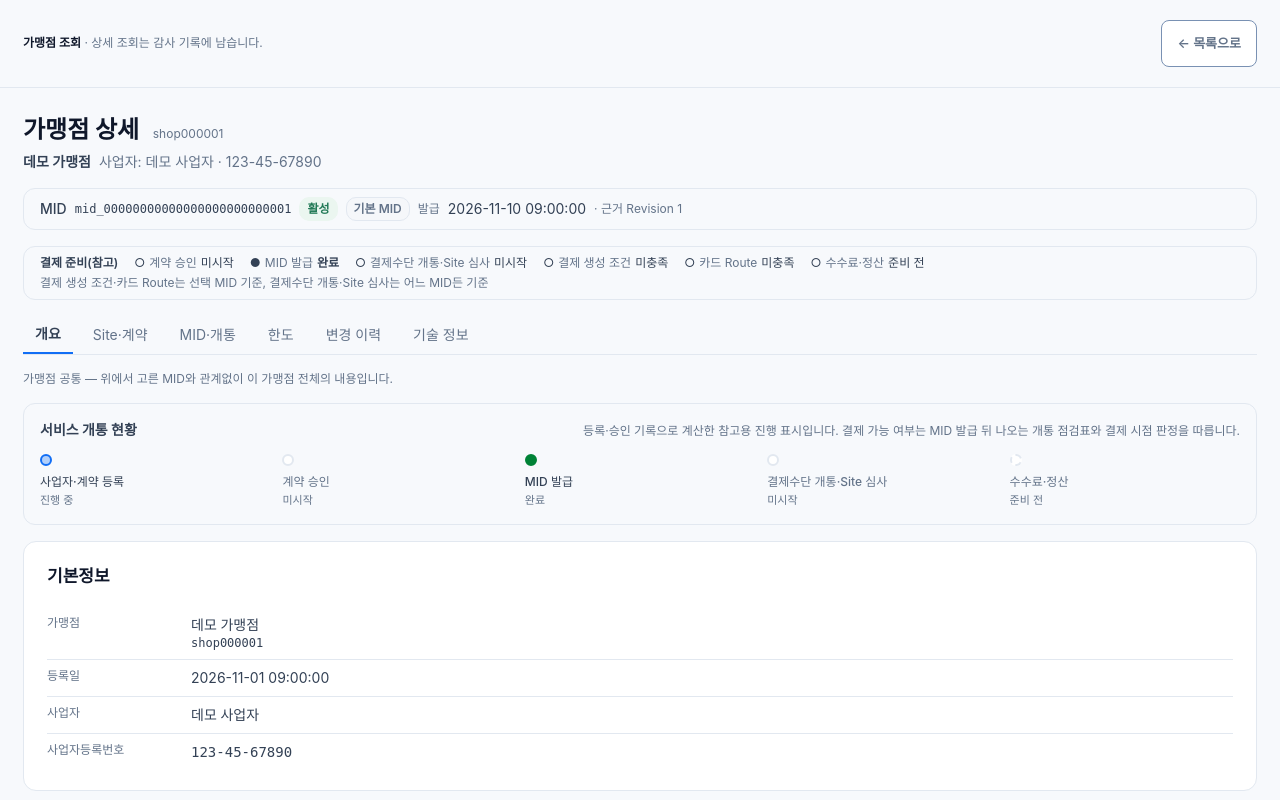
MerchantsScreen — list ↔ detail screen switch (MERCHANT-DETAIL-VIEW-001) › review NIT-1: leaving while the history loads and that request then fails — on return only the history is read again (no second detail read / audit)
The image size is (1280, 800).
Earlier steps of the test are not shown.
Step 1. Click the tab "변경 이력" → (353, 335), box [314, 316, 393, 354]
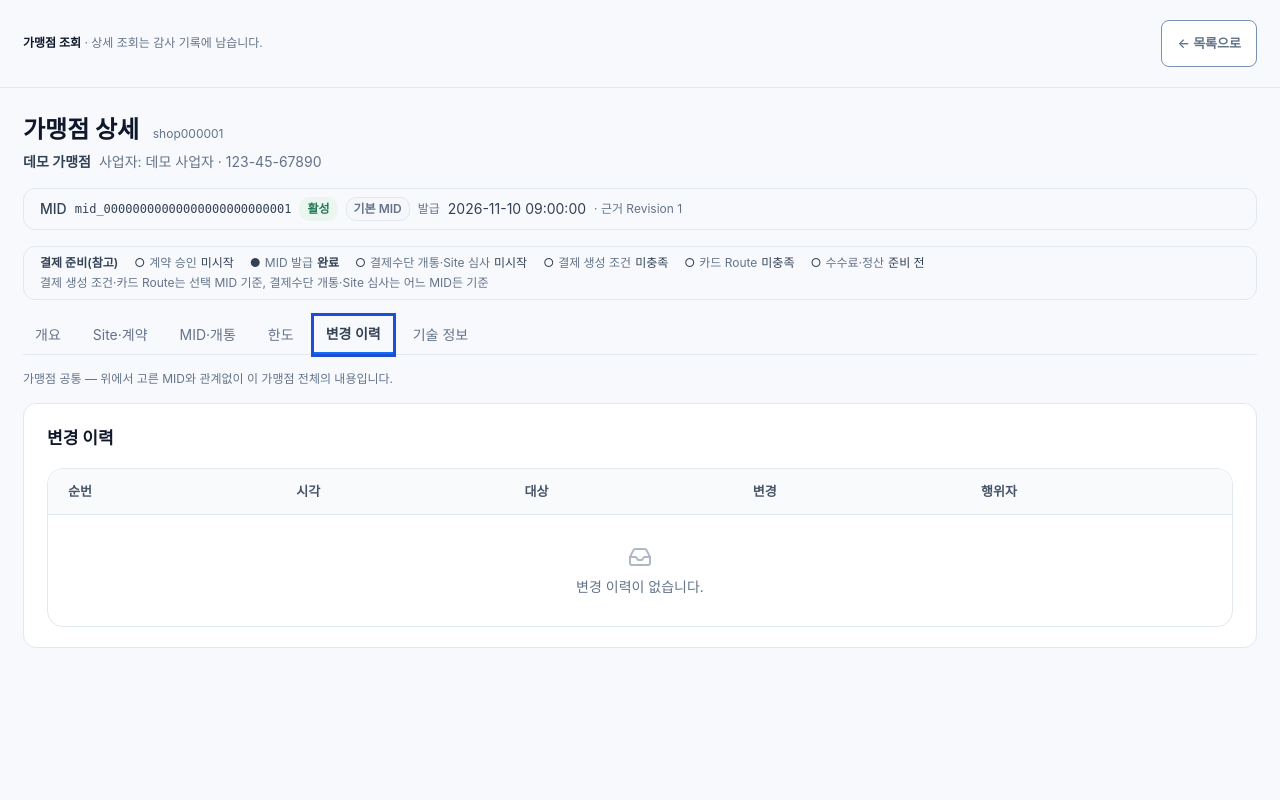
Expected: the table named "변경 이력 목록" is shown, [48, 469, 1232, 626]
